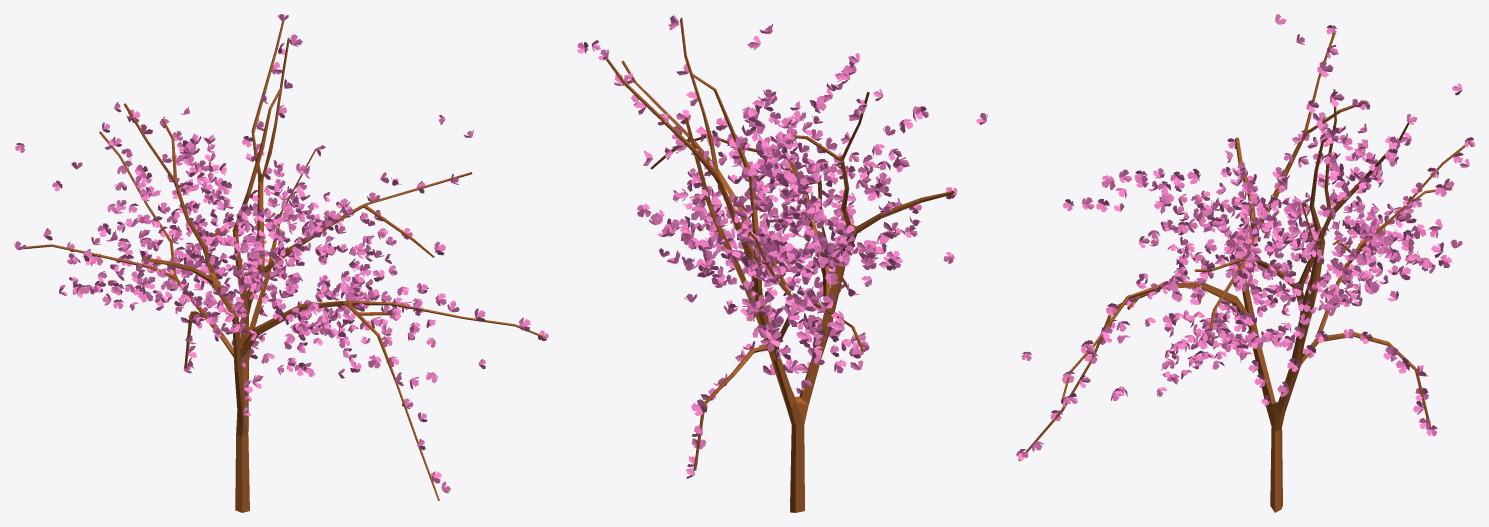
File: 3D_Sakura.glb
3 renders of one model, left to right at view 1: azimuth 30°, elevation 25°; view 2: azimuth 150°, elevation 25°; view 3: azimuth 270°, elevation 25°, orthographic. The views are drawn at different scales.
Parts seen in each view (by area): view 1: Flower_01, RetopoFlow, Flower_02; view 2: Flower_01, RetopoFlow, Flower_02; view 3: Flower_01, RetopoFlow, Flower_02.
Part boxes in pixels (x1,y1,x2,y2): Flower_01: (14,14,548,493); RetopoFlow: (19,21,545,512); Flower_02: (15,15,548,492); Flower_01: (577,14,987,478); RetopoFlow: (605,17,954,512); Flower_02: (578,15,985,477); Flower_01: (1016,14,1474,460); RetopoFlow: (1018,32,1468,512); Flower_02: (1019,15,1474,460).
Bounding box in the file's own units: 2.35 × 2.59 × 2.34.
2 materials, 1 textured.
